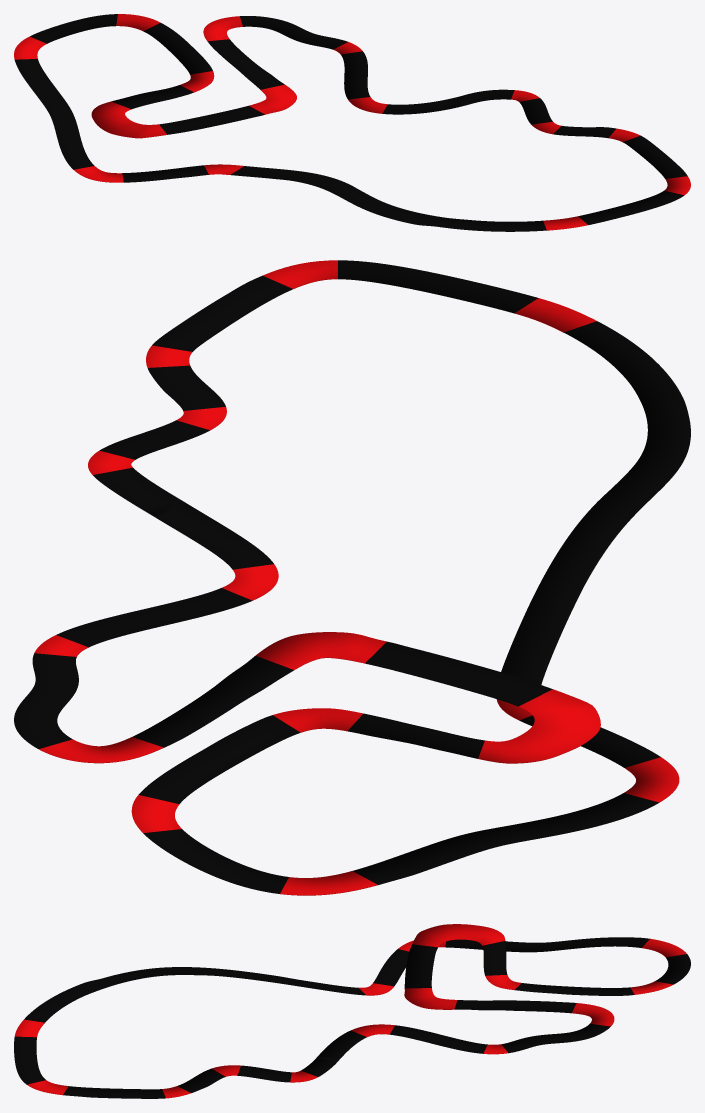
Rendered from RoadDoubleThikness.fbx.
3 views of the same model, one above another, from view 1: azimuth 30°, elevation 25°; view 2: azimuth 150°, elevation 25°; view 3: azimuth 270°, elevation 25° (orthographic). The views are drawn at different scales.
Visible parts, largest first — view 1: Road; view 2: Road; view 3: Road.
Part boxes in pixels (box(x1,y1,x2,y2)): Road: box(14, 14, 690, 231); Road: box(14, 260, 690, 895); Road: box(14, 924, 690, 1098).
Bounding box in the file's own units: 117724 × 10504 × 169860.
